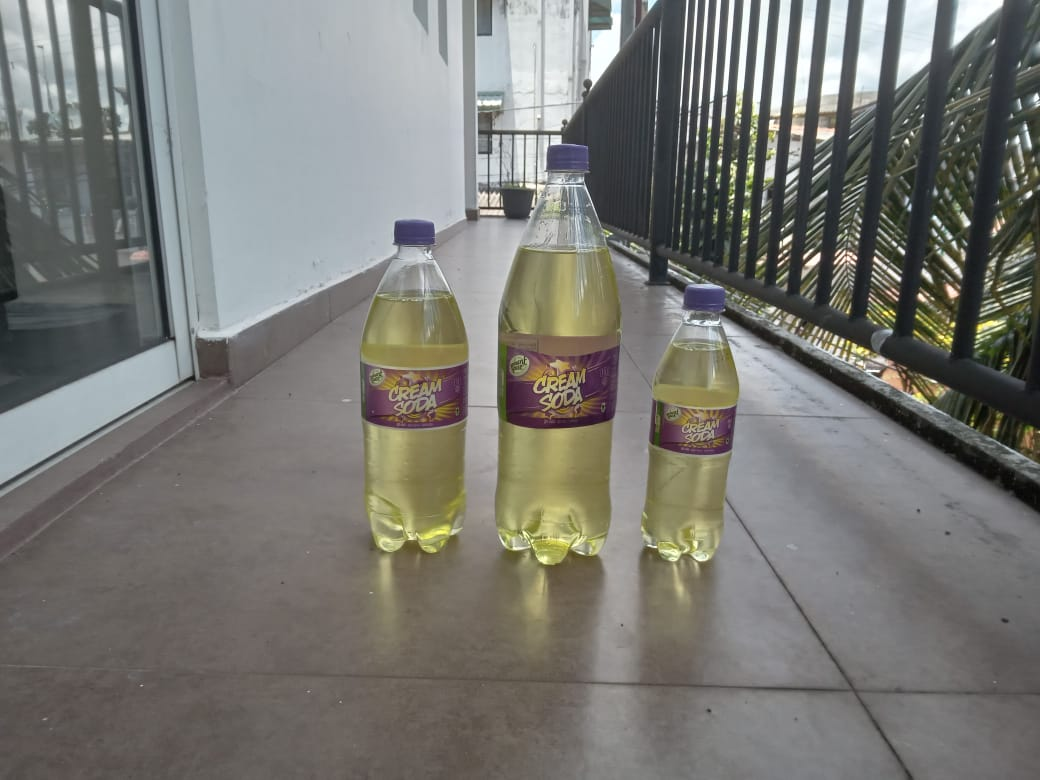L: (495, 148, 620, 566)
M: (356, 219, 470, 557)
S: (643, 283, 741, 565)
